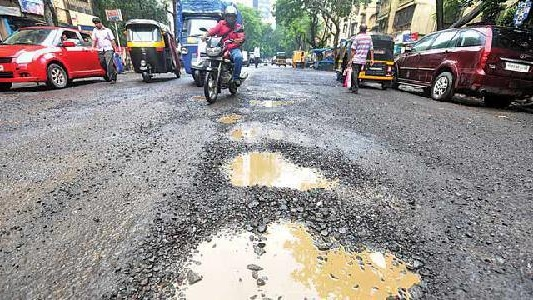pothole: (125, 199, 444, 296), (199, 141, 350, 189), (223, 121, 262, 141), (212, 106, 246, 125), (245, 94, 288, 109)
